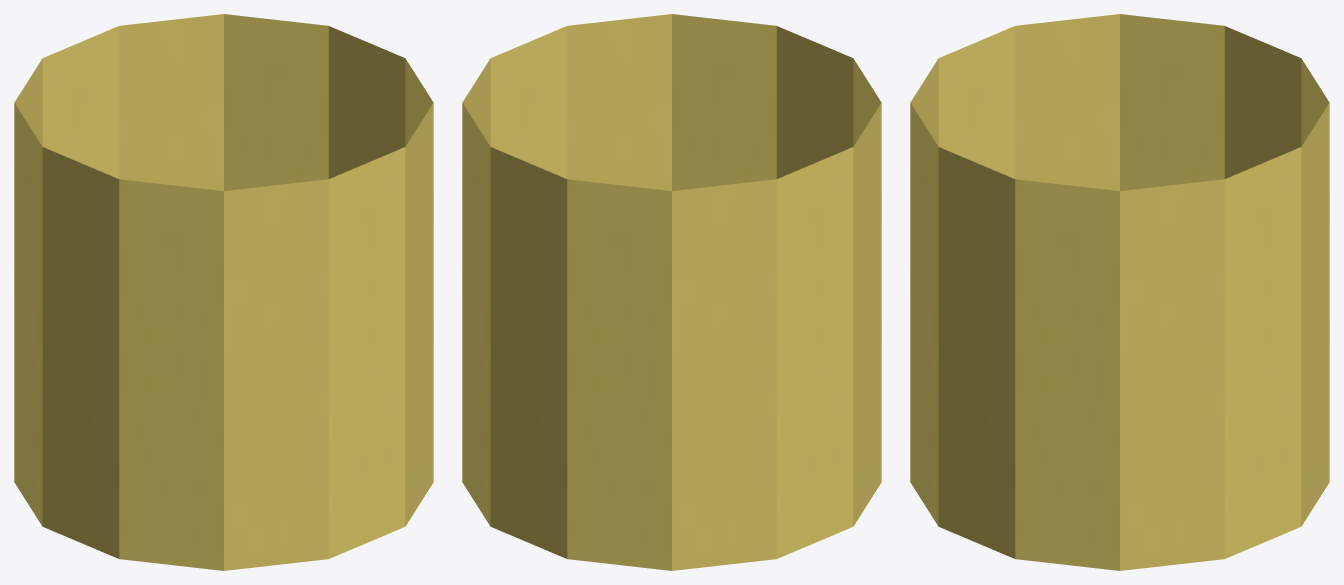
Rendered from Target.fbx.
3 views of the same model, side by side, from view 1: azimuth 30°, elevation 25°; view 2: azimuth 150°, elevation 25°; view 3: azimuth 270°, elevation 25° (orthographic).
Visible parts, largest first — view 1: Cylinder; view 2: Cylinder; view 3: Cylinder.
Part boxes in pixels (box(x1,y1,x2,y2)): Cylinder: box(14, 14, 433, 570); Cylinder: box(462, 14, 881, 570); Cylinder: box(910, 14, 1329, 570).
Size of the model in its own units: 200 by 200 by 200.
